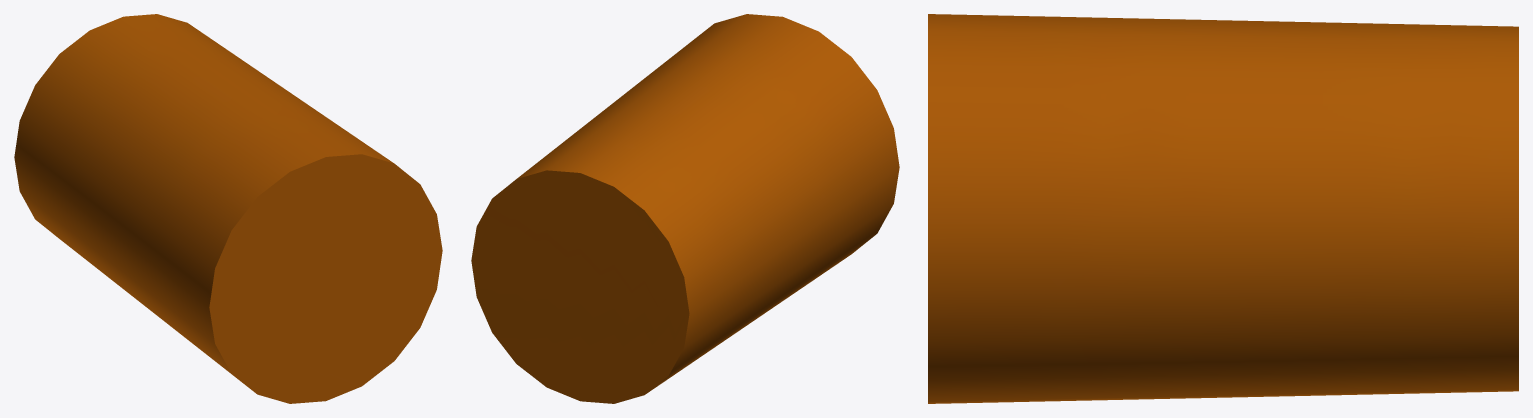
File: carrot2_slices_6.fbx
3 views of the same model, side by side, from view 1: azimuth 30°, elevation 25°; view 2: azimuth 150°, elevation 25°; view 3: azimuth 270°, elevation 25° (orthographic). The views are drawn at different scales.
Parts seen in each view (by area): view 1: carrot_2_slices.006; view 2: carrot_2_slices.006; view 3: carrot_2_slices.006.
Boxes of the visible parts, <box> form: carrot_2_slices.006: <box>14,14,442,403</box>; carrot_2_slices.006: <box>471,14,899,403</box>; carrot_2_slices.006: <box>928,14,1518,403</box>.
Bounding box in the file's own units: 82.64 × 82.64 × 124.
